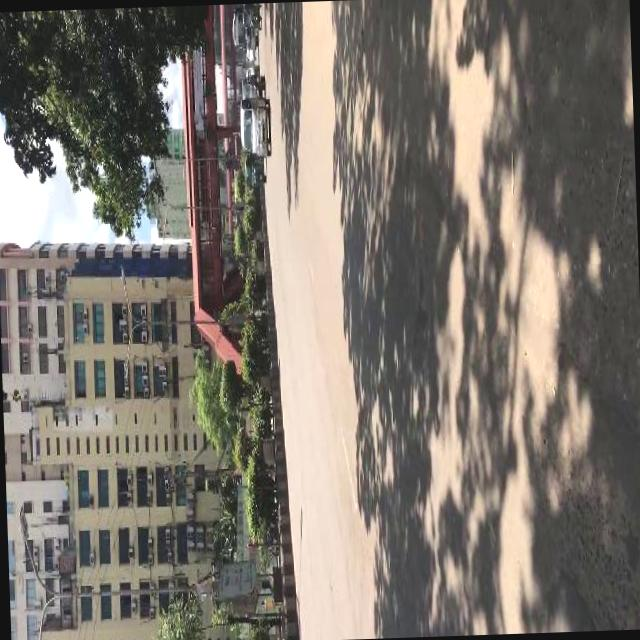bus: (229, 8, 258, 52)
motorcycle: (242, 154, 266, 188), (239, 3, 261, 30)
truck: (238, 96, 271, 157), (240, 74, 264, 98)
